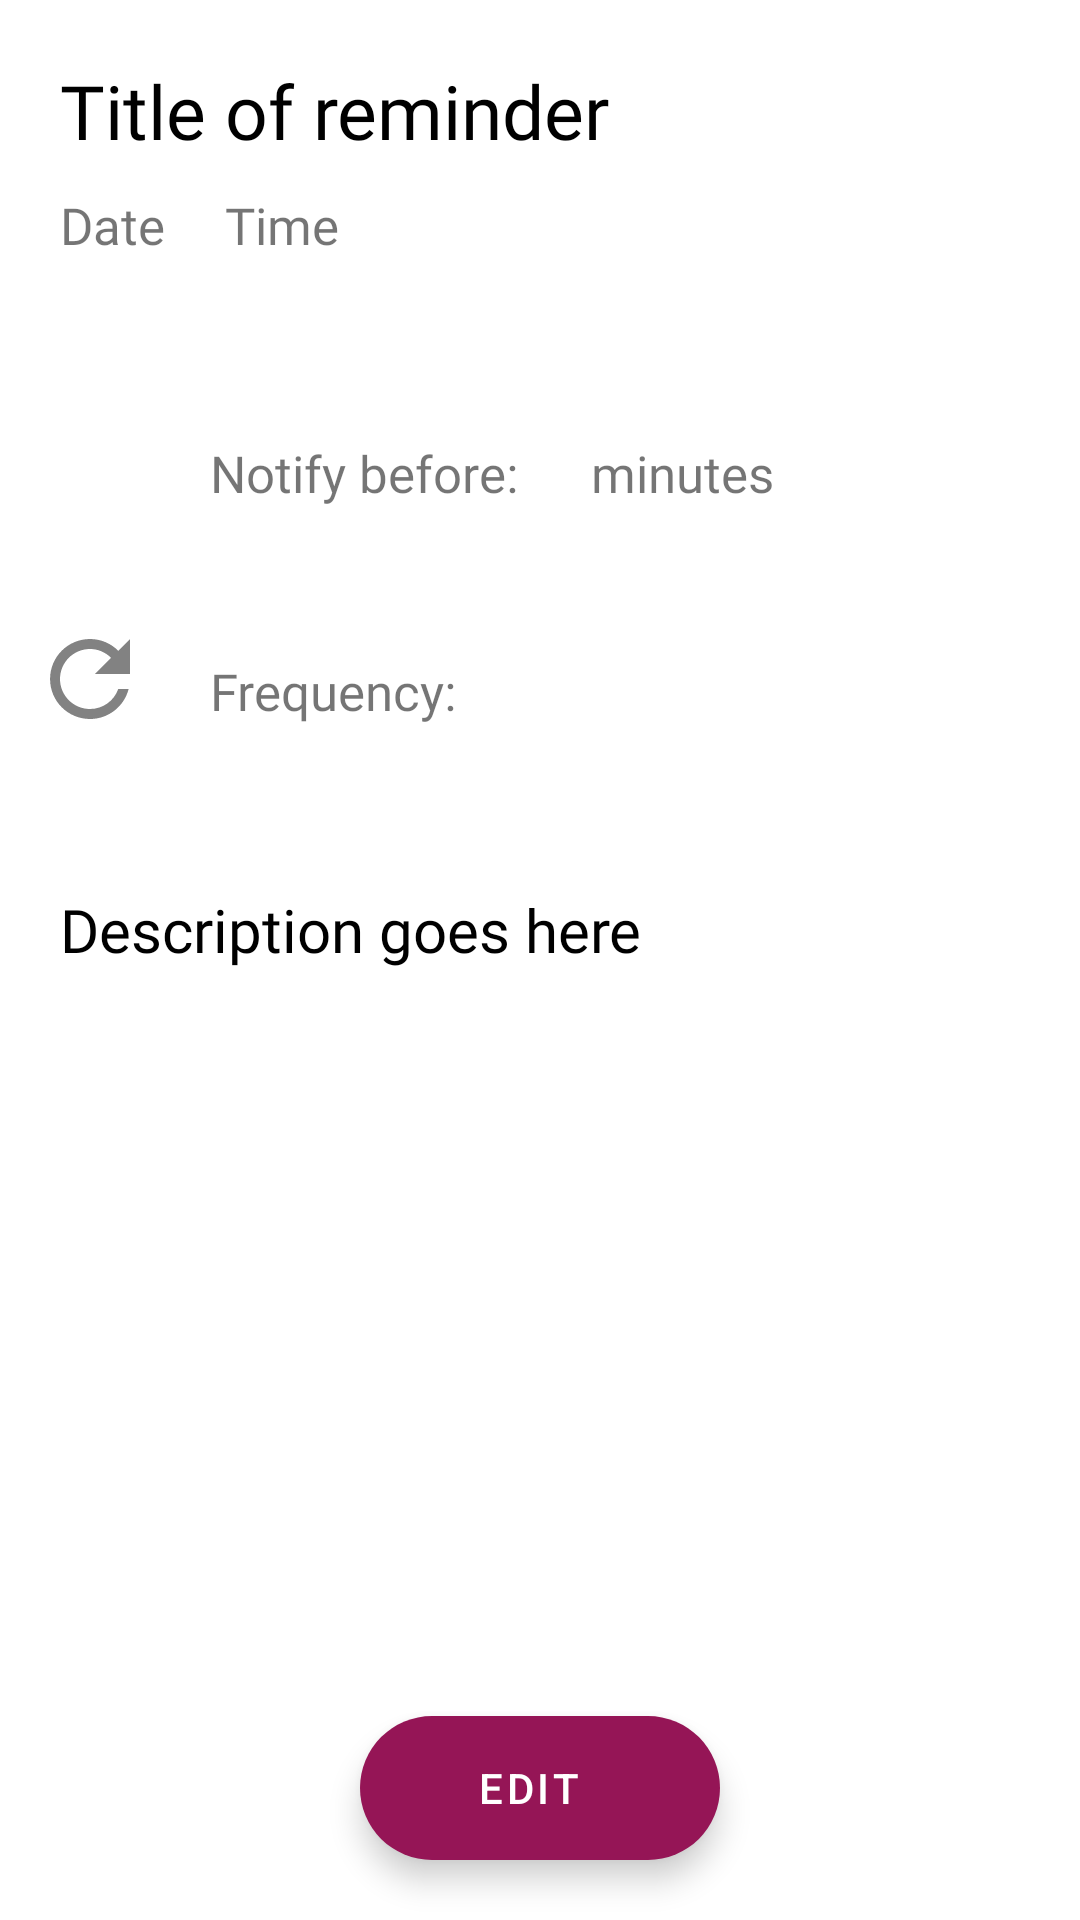

Screen size 1080px×1920px. Icon name, then its box in pixels as (x1, y1, x2, y2):
refresh: (50, 639, 130, 719)
